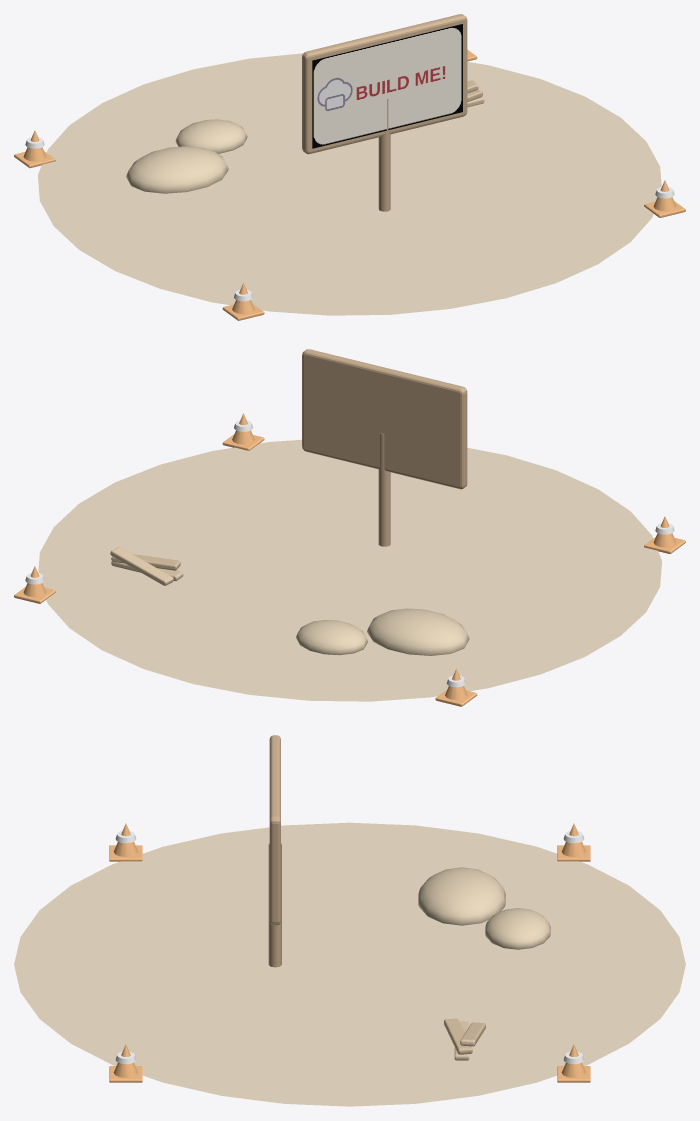
Rendered from building_restaurant_L00.glb.
3 views of the same model, one above another, from view 1: azimuth 30°, elevation 25°; view 2: azimuth 150°, elevation 25°; view 3: azimuth 270°, elevation 25° (orthographic). The views are drawn at different scales.
Parts seen in each view (by area): view 1: restaurant_L0; view 2: restaurant_L0; view 3: restaurant_L0.
Boxes of the visible parts, x1,y1,x2,y2 form: restaurant_L0: (14, 14, 685, 320); restaurant_L0: (14, 349, 685, 706); restaurant_L0: (14, 735, 685, 1106).
Size of the model in its own units: 18 by 6.1 by 18.
Materials: 8 (1 with a texture image).
